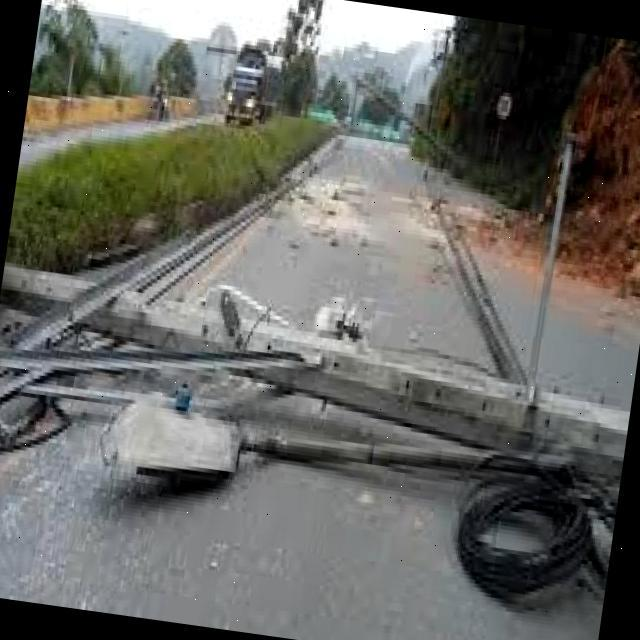Broken Pole: (0, 141, 630, 600)
